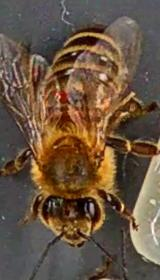varroa_mite: (46, 86, 72, 111)
